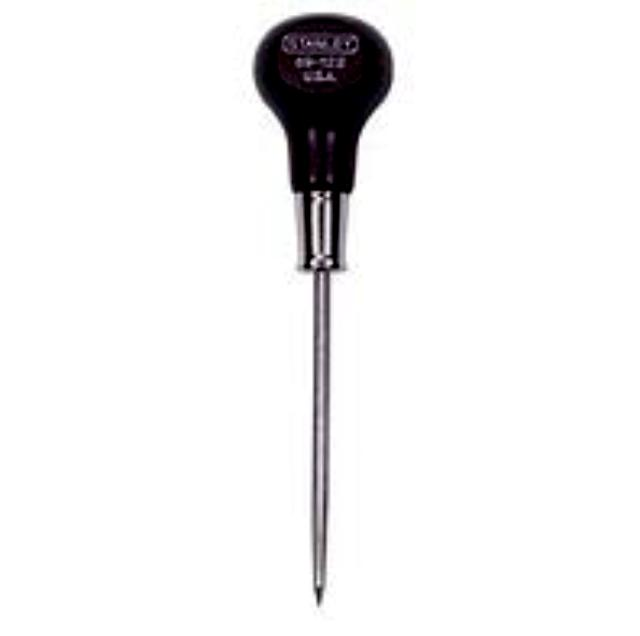ice pick: (253, 17, 391, 618)
